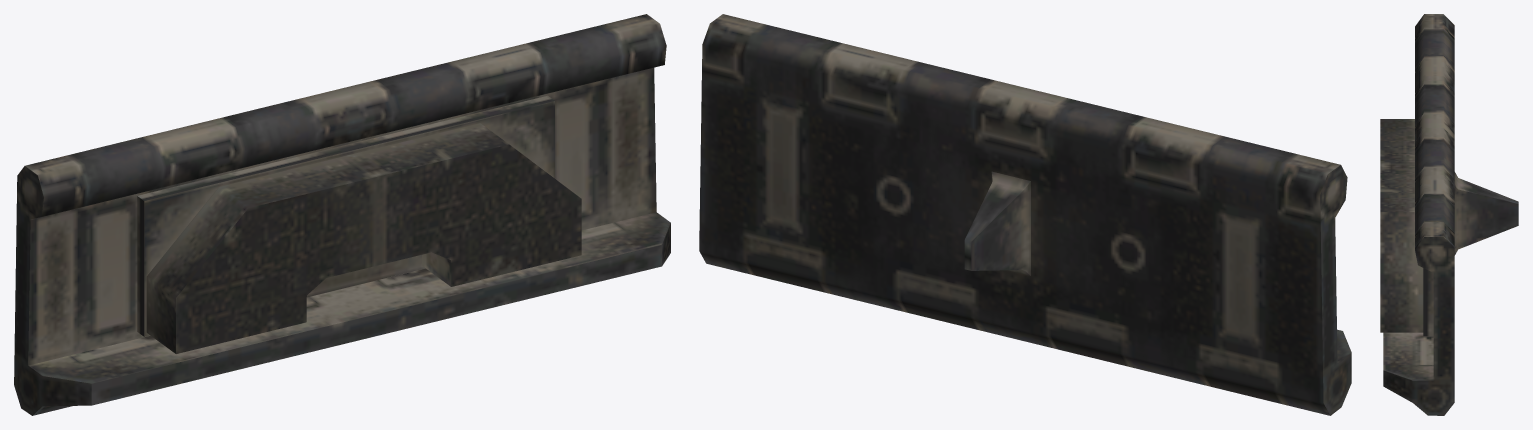
The picture shows the model from 3 angles, left to right: view 1: azimuth 30°, elevation 25°; view 2: azimuth 150°, elevation 25°; view 3: azimuth 270°, elevation 25°; orthographic projection. The views are drawn at different scales.
Visible parts, largest first — view 1: set_0_group_0; view 2: set_0_group_0; view 3: set_0_group_0.
Part boxes in pixels (<box>): set_0_group_0: <box>14,14,670,415</box>; set_0_group_0: <box>699,14,1351,415</box>; set_0_group_0: <box>1380,14,1518,415</box>.
Bounding box in the file's own units: 0.5692 × 0.2096 × 0.148.
Materials: 1 (1 with a texture image).
